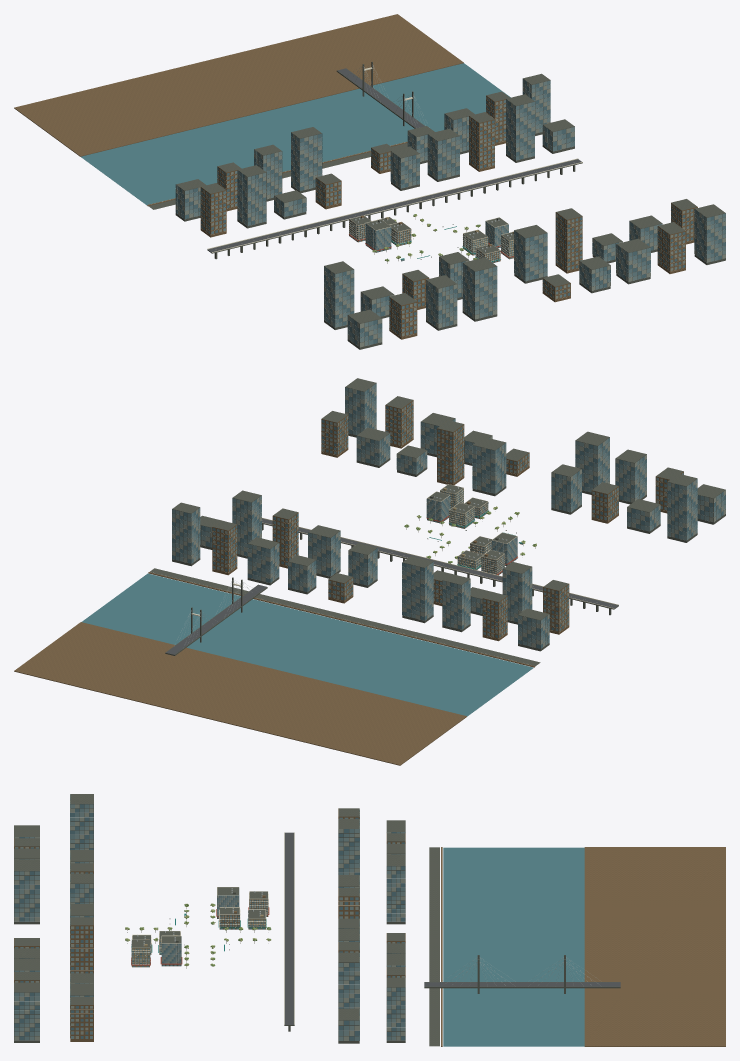
File: district.glb
The picture shows the model from 3 angles, top to bottom: view 1: azimuth 30°, elevation 25°; view 2: azimuth 150°, elevation 25°; view 3: azimuth 270°, elevation 25°; orthographic projection. The views are drawn at different scales.
Visible parts, largest first — view 1: Riverwalk and distant bridge / sand, Riverwalk and distant bridge / water, Riverwalk and distant bridge / concrete, Riverwalk and distant bridge / road, Skyline 30 / sand, Riverwalk and distant bridge / cream, Skyline 33 / sand, Skyline 9 / sand, Skyline 39 / sand, Skyline 23 / concrete, Skyline 15 / sand, Skyline 13 / concrete (+12 smaller); view 2: Riverwalk and distant bridge / sand, Riverwalk and distant bridge / water, Riverwalk and distant bridge / concrete, Riverwalk and distant bridge / road, Skyline 30 / sand, Skyline 36 / sand, Skyline 39 / sand, Skyline 9 / sand, Skyline 33 / sand, Skyline 12 / sand, Skyline 10 / concrete, Skyline 42 / sand (+12 smaller); view 3: Riverwalk and distant bridge / sand, Riverwalk and distant bridge / water, Riverwalk and distant bridge / concrete, Riverwalk and distant bridge / road, Skyline 30 / sand, Skyline 23 / concrete, Skyline 43 / concrete, Skyline 20 / concrete, Skyline 42 / sand, Skyline 40 / concrete, Skyline 10 / concrete, Skyline 13 / concrete (+3 smaller).
Boxes of the visible parts, <box> form: Riverwalk and distant bridge / sand: <box>14,14,463,205</box>; Riverwalk and distant bridge / water: <box>80,63,510,205</box>; Riverwalk and distant bridge / concrete: <box>148,61,582,259</box>; Riverwalk and distant bridge / road: <box>208,68,581,252</box>; Skyline 30 / sand: <box>555,212,582,273</box>; Riverwalk and distant bridge / cream: <box>151,67,582,252</box>; Skyline 33 / sand: <box>469,116,494,171</box>; Skyline 9 / sand: <box>200,187,226,237</box>; Skyline 39 / sand: <box>657,226,685,273</box>; Skyline 23 / concrete: <box>462,257,497,321</box>; Skyline 15 / sand: <box>389,297,417,339</box>; Skyline 13 / concrete: <box>237,165,266,228</box>; Riverwalk and distant bridge / sand: <box>14,572,535,765</box>; Riverwalk and distant bridge / water: <box>82,573,533,716</box>; Riverwalk and distant bridge / concrete: <box>150,518,618,666</box>; Riverwalk and distant bridge / road: <box>166,518,617,654</box>; Skyline 30 / sand: <box>437,424,464,485</box>; Skyline 36 / sand: <box>212,524,237,575</box>; Skyline 39 / sand: <box>385,400,413,448</box>; Skyline 9 / sand: <box>543,584,569,634</box>; Skyline 33 / sand: <box>272,512,298,568</box>; Skyline 12 / sand: <box>482,596,507,641</box>; Skyline 10 / concrete: <box>667,473,697,542</box>; Skyline 42 / sand: <box>321,415,348,457</box>; Riverwalk and distant bridge / sand: <box>441,847,725,1046</box>; Riverwalk and distant bridge / water: <box>443,847,584,1046</box>; Riverwalk and distant bridge / concrete: <box>284,833,620,1046</box>; Riverwalk and distant bridge / road: <box>285,832,620,1024</box>; Skyline 30 / sand: <box>70,917,93,973</box>; Skyline 23 / concrete: <box>14,859,39,924</box>; Skyline 43 / concrete: <box>14,982,39,1042</box>; Skyline 20 / concrete: <box>386,854,405,924</box>; Skyline 42 / sand: <box>70,997,93,1041</box>; Skyline 40 / concrete: <box>386,977,405,1042</box>; Skyline 10 / concrete: <box>70,794,93,849</box>; Skyline 13 / concrete: <box>338,819,359,874</box>.
Bounding box in the file's own units: 615 × 85.98 × 907.
20 materials, 3 textured.
